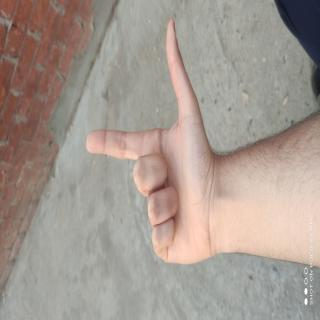LAAM: (21, 180, 138, 320)
